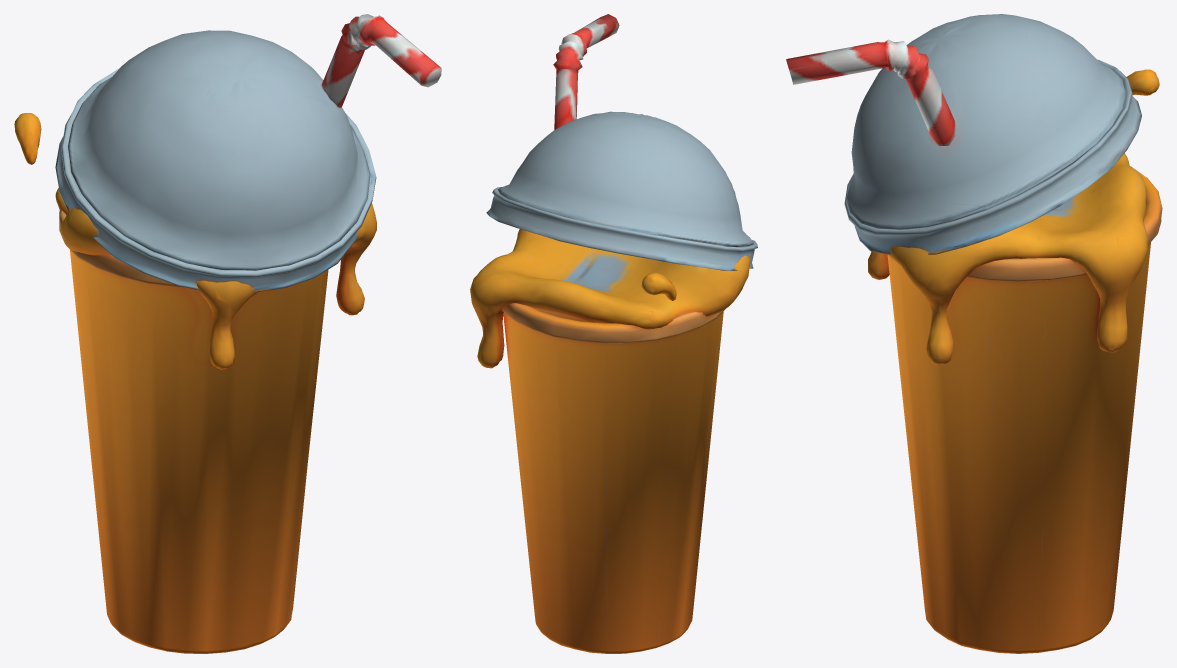
The model's file is juice_cup.glb.
3 views of the same model, side by side, from view 1: azimuth 30°, elevation 25°; view 2: azimuth 150°, elevation 25°; view 3: azimuth 270°, elevation 25° (orthographic). The views are drawn at different scales.
Parts seen in each view (by area): view 1: tripo_node_d55ccaca-f6e7-4afa-933b-270f6f6d370b; view 2: tripo_node_d55ccaca-f6e7-4afa-933b-270f6f6d370b; view 3: tripo_node_d55ccaca-f6e7-4afa-933b-270f6f6d370b.
Boxes of the visible parts, left/top/right/bottom form: tripo_node_d55ccaca-f6e7-4afa-933b-270f6f6d370b: left=14, top=14, right=441, bottom=653; tripo_node_d55ccaca-f6e7-4afa-933b-270f6f6d370b: left=470, top=14, right=757, bottom=653; tripo_node_d55ccaca-f6e7-4afa-933b-270f6f6d370b: left=786, top=14, right=1162, bottom=653.
Size of the model in its own units: 0.4824 by 0.998 by 0.541.
1 material, 1 textured.
